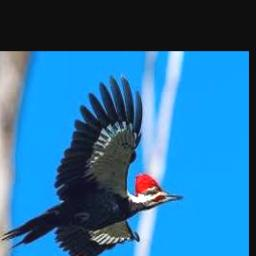Woodpecker: (1, 74, 182, 256)
